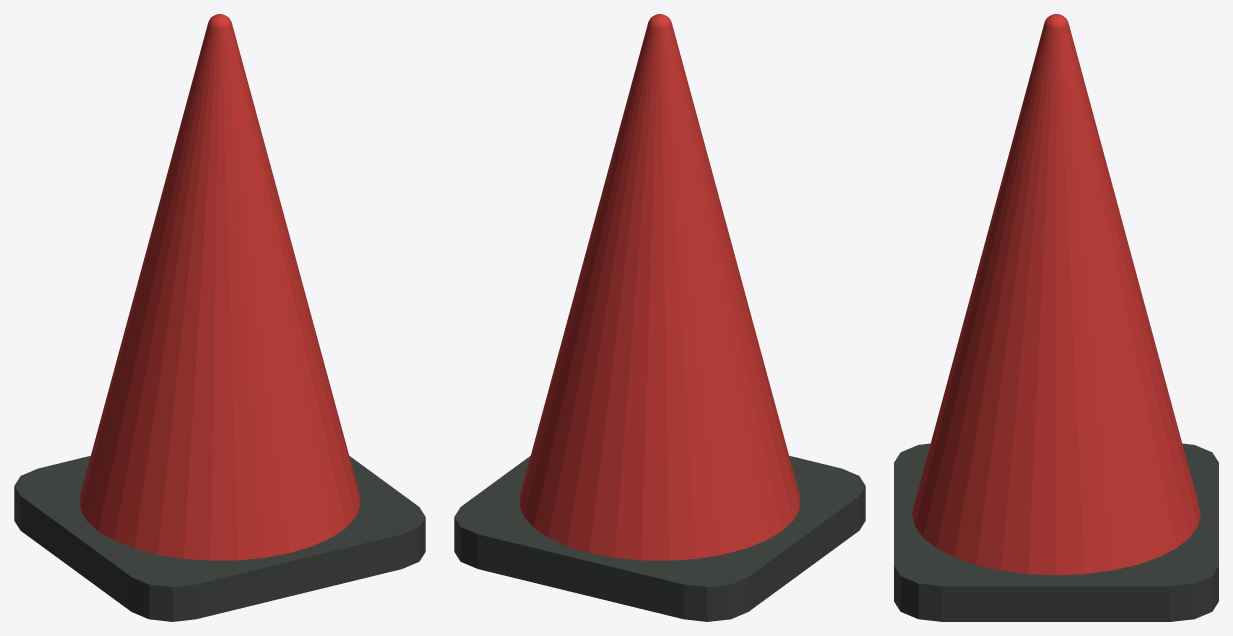
The model's file is corn.fbx.
3 renders of one model, left to right at view 1: azimuth 30°, elevation 25°; view 2: azimuth 150°, elevation 25°; view 3: azimuth 270°, elevation 25°, orthographic. The views are drawn at different scales.
Visible parts, largest first — view 1: Cone, Cube; view 2: Cone, Cube; view 3: Cone, Cube.
Boxes of the visible parts, bbox=[...] form: Cone: bbox=[79, 14, 360, 560]; Cube: bbox=[14, 456, 425, 621]; Cone: bbox=[519, 14, 800, 560]; Cube: bbox=[454, 456, 865, 621]; Cone: bbox=[912, 14, 1200, 575]; Cube: bbox=[894, 443, 1218, 621].
Bounding box in the file's own units: 236 × 408 × 225.
